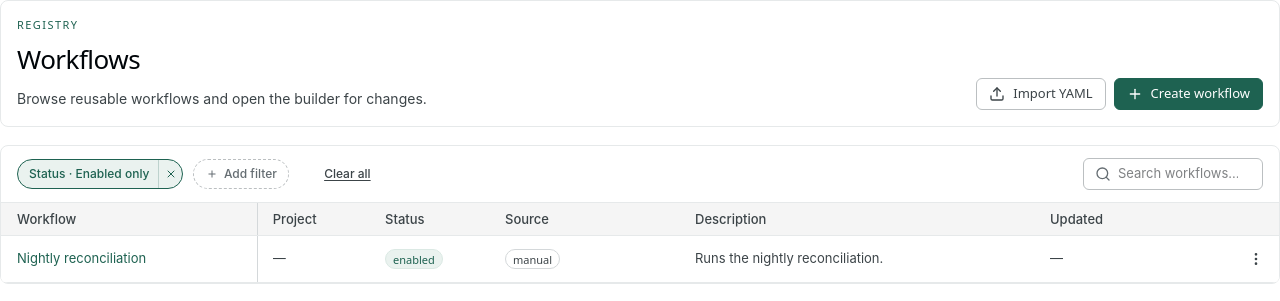
Test: WorkflowsListPage › drops the enabled parameter when the filter is cleared
Expected: the link "Nightly reconciliation" is shown, [17, 250, 146, 266]
Click the button named "Remove Status filter".
click(170, 174)  # box [158, 160, 182, 188]
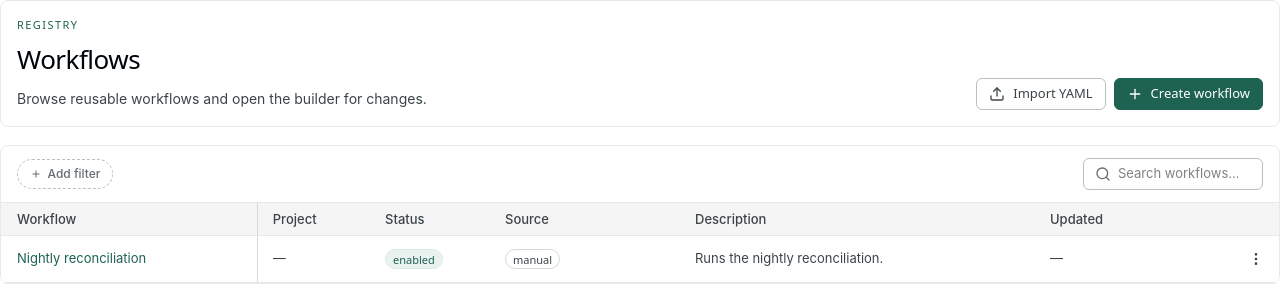
Now the text "Status · Enabled only" is gone
